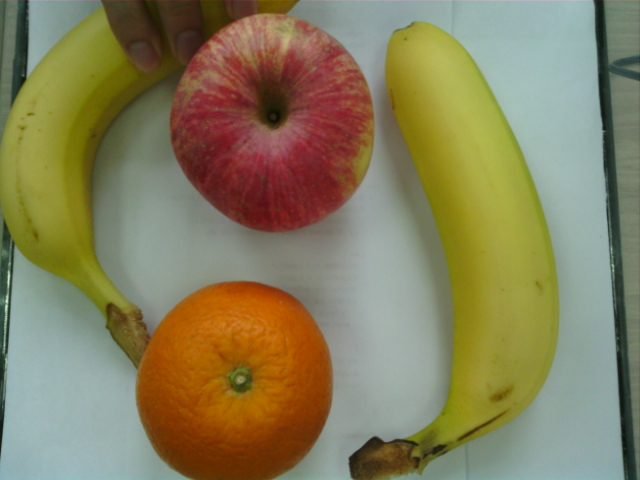fresh_orange: (139, 282, 337, 480)
normal_apple: (173, 14, 373, 233)
normal_banana: (380, 23, 563, 478)
